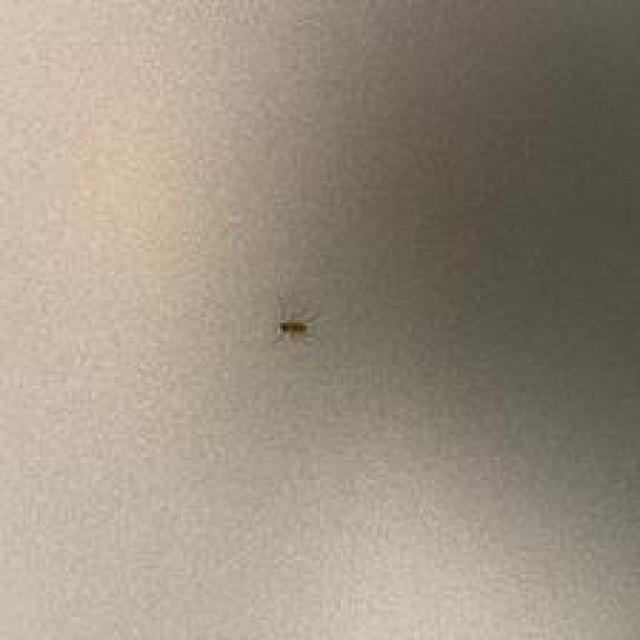Culex: (277, 317, 312, 343)
